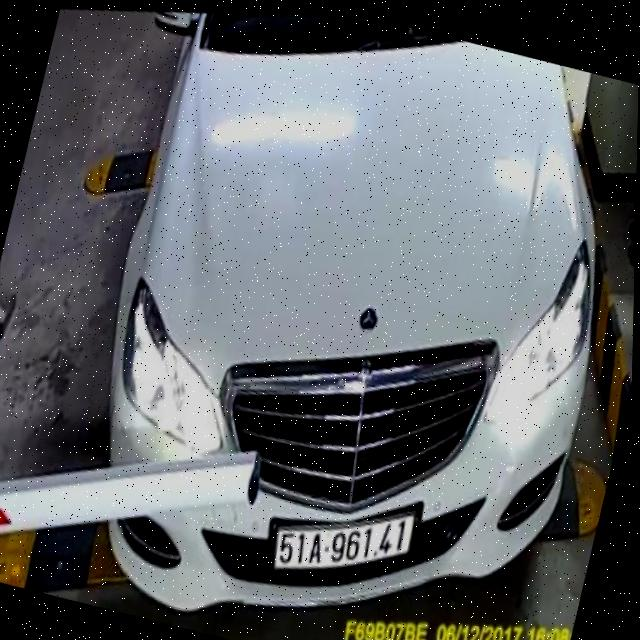car: (17, 1, 640, 640)
plate: (264, 476, 428, 609)
